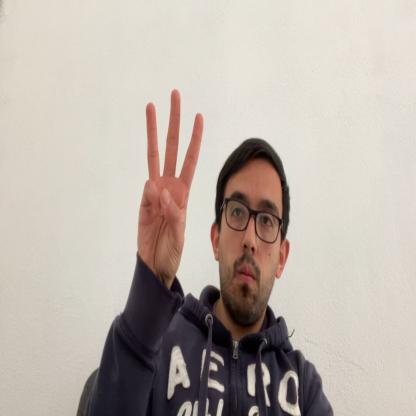W: (136, 86, 204, 278)
